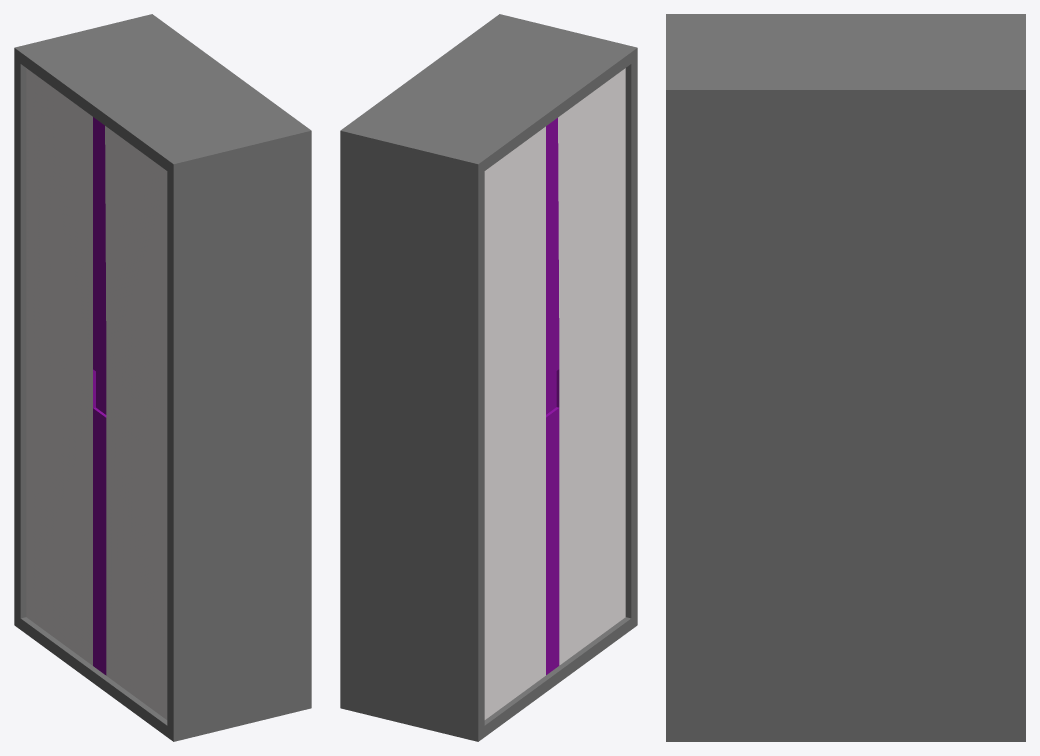
File: armoire bureau.fbx
3 renders of one model, left to right at view 1: azimuth 30°, elevation 25°; view 2: azimuth 150°, elevation 25°; view 3: azimuth 270°, elevation 25°, orthographic. The views are drawn at different scales.
Visible parts, largest first — view 1: Box001; view 2: Box001; view 3: Box001.
Boxes of the visible parts, x1,y1,x2,y2 form: Box001: [14, 14, 311, 741]; Box001: [340, 14, 637, 741]; Box001: [666, 14, 1025, 741].
Bounding box in the file's own units: 0.5 × 2 × 1.
